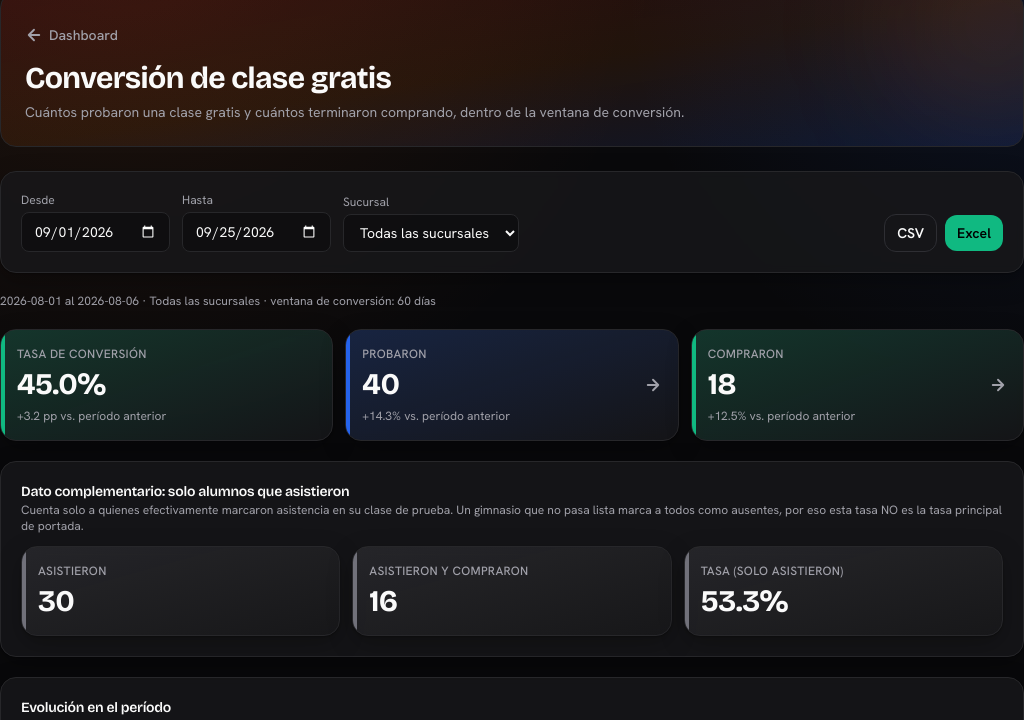
GymAdminTrialConversionReportPage › abre desde Probaron una lista con tabs y detalle de prospectos
Expected: the text "45.0%" is shown, [17, 366, 106, 402]
Click the button with aria-label "ver todos los prospectos que probaron".
click(512, 385)  # box [345, 329, 679, 441]
(page scrolled)
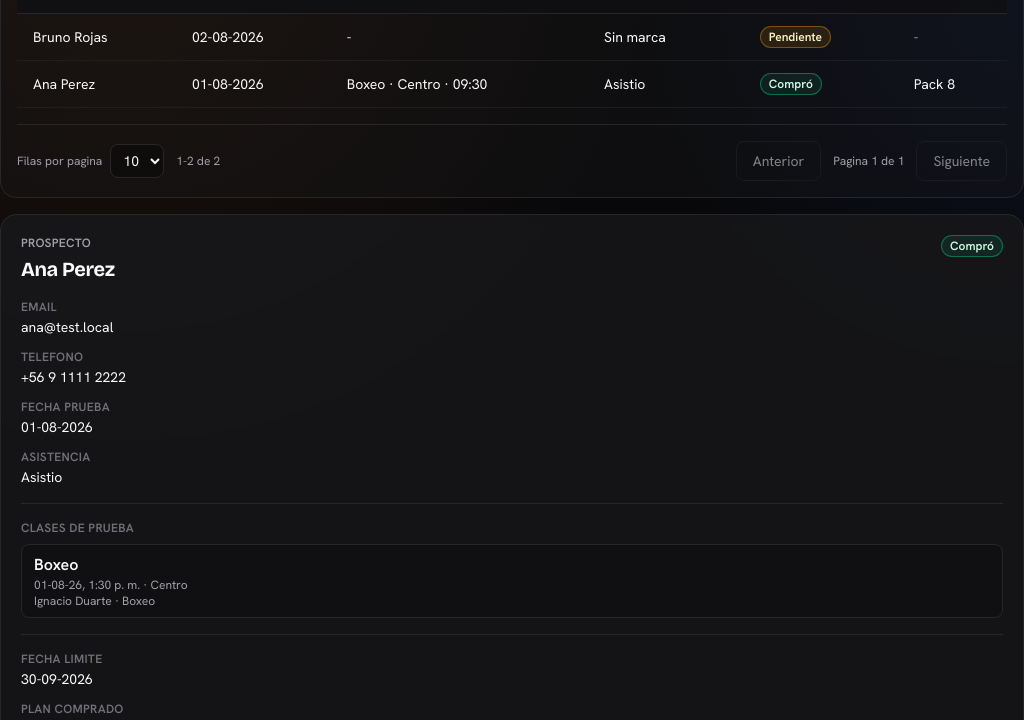
Expected: the text "ana@test.local" is shown, [21, 318, 113, 336]
Expected: the text "+56 9 1111 2222" is shown, [21, 368, 126, 386]
